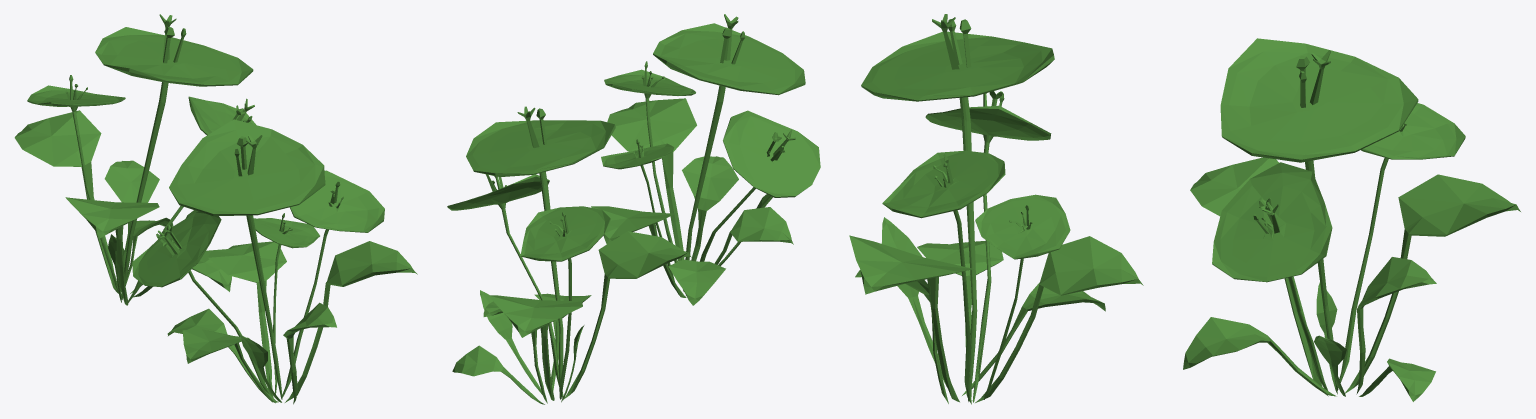
File: minersLettuce1.dae
3 renders of one model, left to right at view 1: azimuth 30°, elevation 25°; view 2: azimuth 150°, elevation 25°; view 3: azimuth 270°, elevation 25°, orthographic. The views are drawn at different scales.
Visible parts, largest first — view 1: Cylinder_001, Cylinder_002, Cylinder_014, Cylinder_015, Cylinder_004, Cylinder_013, Cylinder_009, Cylinder_008, Cylinder, Cylinder_016, Cylinder_007, Cylinder_003 (+6 smaller); view 2: Cylinder_001, Cylinder_002, Cylinder_014, Cylinder, Cylinder_013, Cylinder_008, Cylinder_004, Cylinder_010, Cylinder_003, Cylinder_015, Cylinder_017, Cylinder_009 (+6 smaller); view 3: Cylinder_002, Cylinder_003, Cylinder_001, Cylinder_015, Cylinder_004, Cylinder_016, Cylinder_009, Cylinder, Cylinder_013, Cylinder_014, Cylinder_008, Cylinder_006 (+8 smaller).
Part boxes in pixels (left/top/right/bottom): Cylinder_001: left=169, top=119, right=325, bottom=399; Cylinder_002: left=95, top=14, right=253, bottom=299; Cylinder_014: left=132, top=211, right=272, bottom=397; Cylinder_015: left=282, top=170, right=384, bottom=397; Cylinder_004: left=14, top=110, right=121, bottom=294; Cylinder_013: left=285, top=241, right=417, bottom=402; Cylinder_009: left=208, top=241, right=286, bottom=398; Cylinder_008: left=65, top=197, right=159, bottom=305; Cylinder: left=27, top=75, right=125, bottom=299; Cylinder_016: left=253, top=213, right=319, bottom=393; Cylinder_007: left=104, top=160, right=159, bottom=292; Cylinder_003: left=128, top=96, right=255, bottom=302; Cylinder_001: left=653, top=14, right=805, bottom=259; Cylinder_002: left=466, top=106, right=615, bottom=399; Cylinder_014: left=700, top=110, right=820, bottom=261; Cylinder: left=520, top=206, right=610, bottom=398; Cylinder_013: left=607, top=98, right=696, bottom=261; Cylinder_008: left=564, top=231, right=691, bottom=398; Cylinder_004: left=488, top=295, right=582, bottom=400; Cylinder_010: left=682, top=156, right=738, bottom=260; Cylinder_003: left=447, top=174, right=563, bottom=399; Cylinder_015: left=604, top=61, right=695, bottom=291; Cylinder_017: left=685, top=207, right=793, bottom=296; Cylinder_009: left=591, top=206, right=686, bottom=297; Cylinder_002: left=1220, top=38, right=1418, bottom=390; Cylinder_003: left=1212, top=162, right=1332, bottom=390; Cylinder_001: left=861, top=14, right=1054, bottom=401; Cylinder_015: left=882, top=150, right=1005, bottom=401; Cylinder_004: left=1345, top=174, right=1520, bottom=393; Cylinder_016: left=975, top=194, right=1070, bottom=399; Cylinder_009: left=975, top=236, right=1143, bottom=402; Cylinder: left=1336, top=103, right=1465, bottom=390; Cylinder_013: left=849, top=235, right=972, bottom=402; Cylinder_014: left=925, top=91, right=1051, bottom=402; Cylinder_008: left=1190, top=157, right=1328, bottom=396; Cylinder_006: left=1183, top=317, right=1336, bottom=396.
Size of the model in its own units: 4.84 by 9.07 by 5.47.
